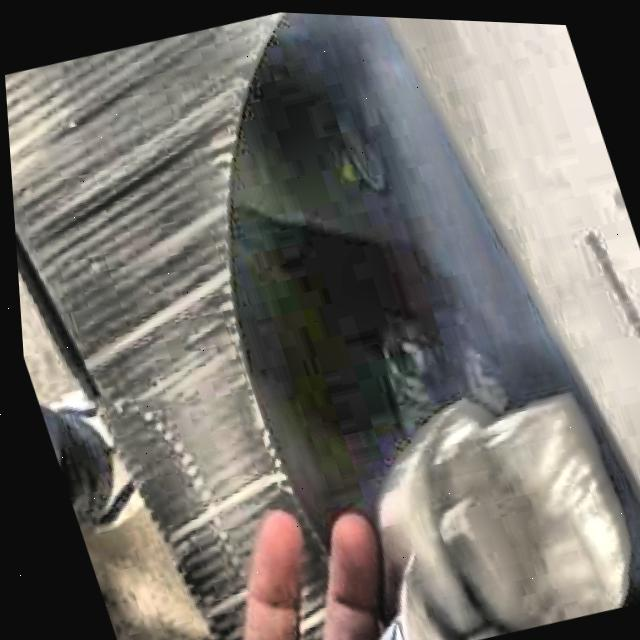metal: (425, 390, 620, 628)
